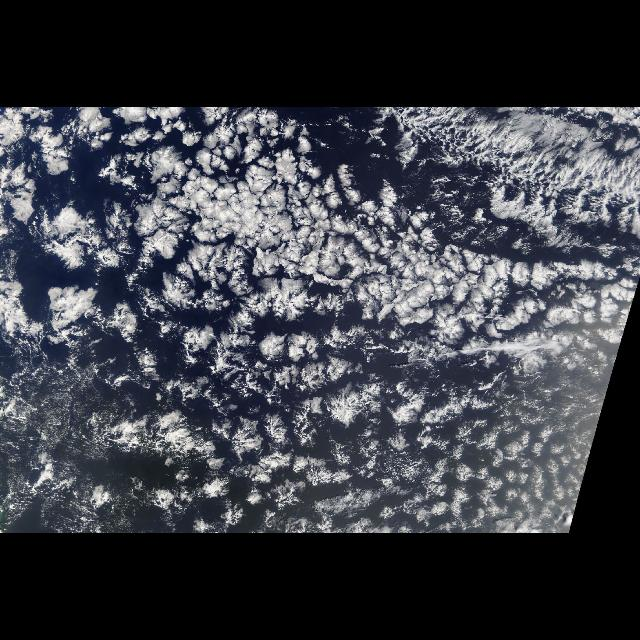Fish: (376, 108, 640, 225)
Flower: (4, 115, 628, 533)
